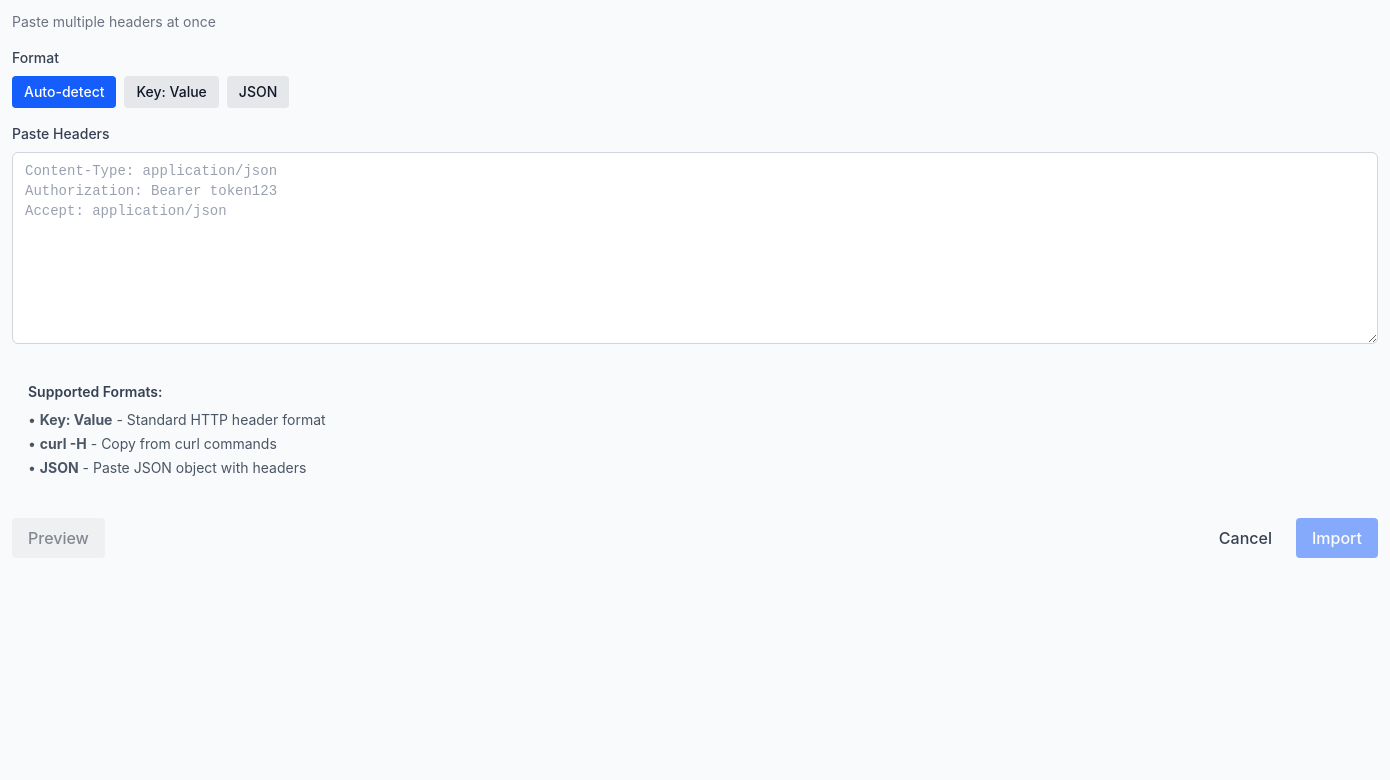
BatchHeadersForm › previews key-value headers
This screenshot has width=1390, height=780.
Type "Content-Type: application/json" into the text box at (695, 248), box [12,152,1378,344]
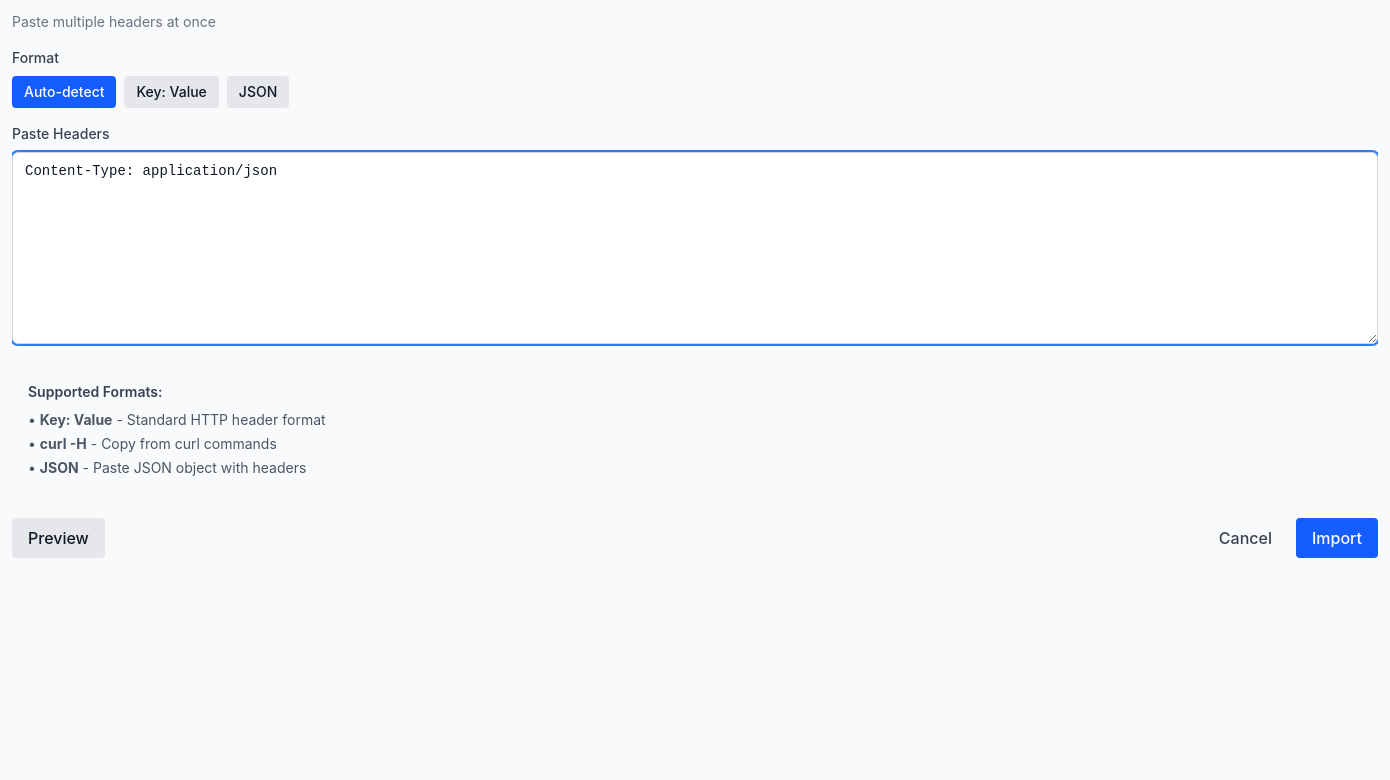
Click the button "Preview" at (58, 538), box [12,518,105,558]
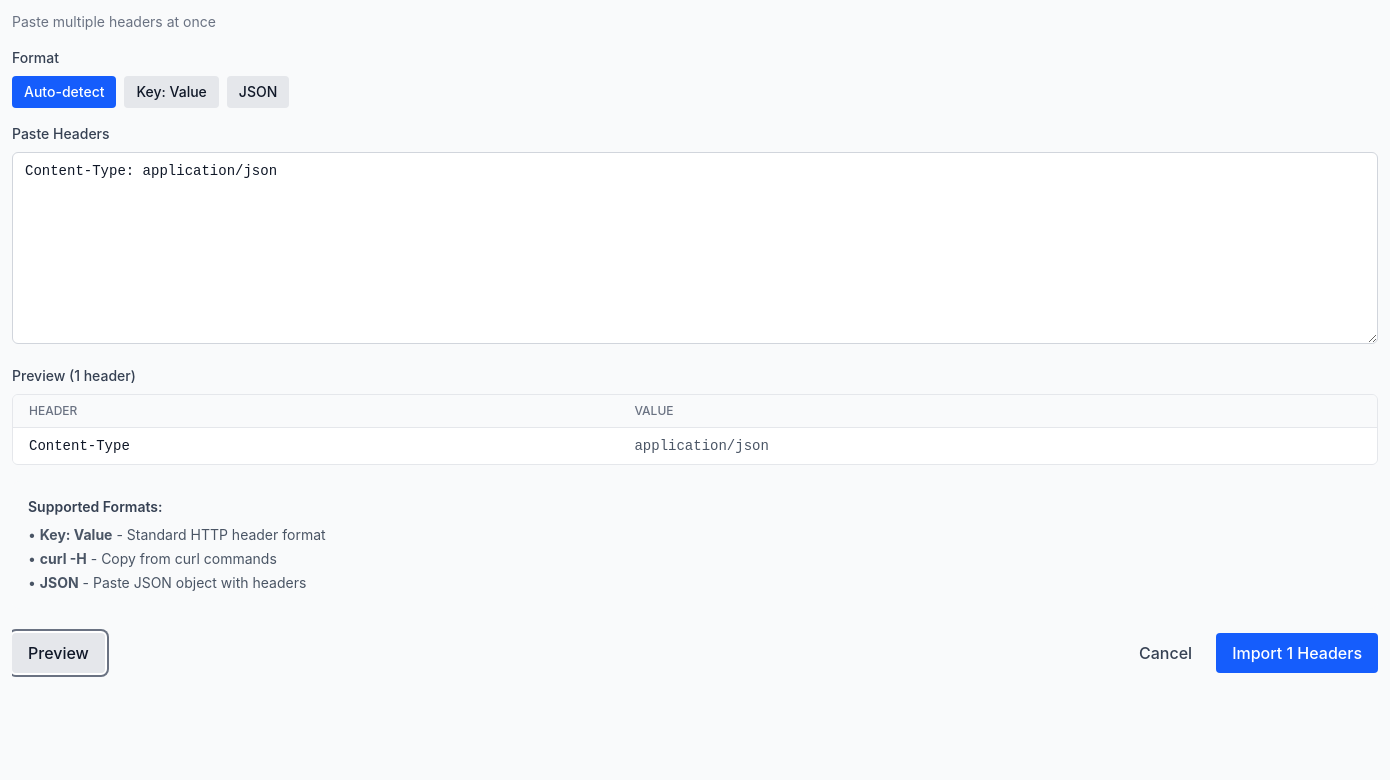
Expected: the text "Content-Type" is shown, [13,428,618,464]
Expected: the text "application/json" is shown, [618,428,1377,464]
Expected: the heading "Preview (1 header)" is shown, [12,367,136,384]
